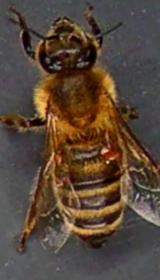varroa_mite: (88, 140, 120, 165)
